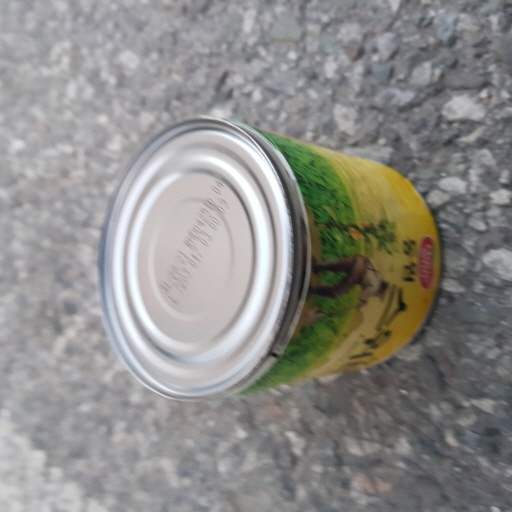Metal_1: (94, 112, 443, 408)
